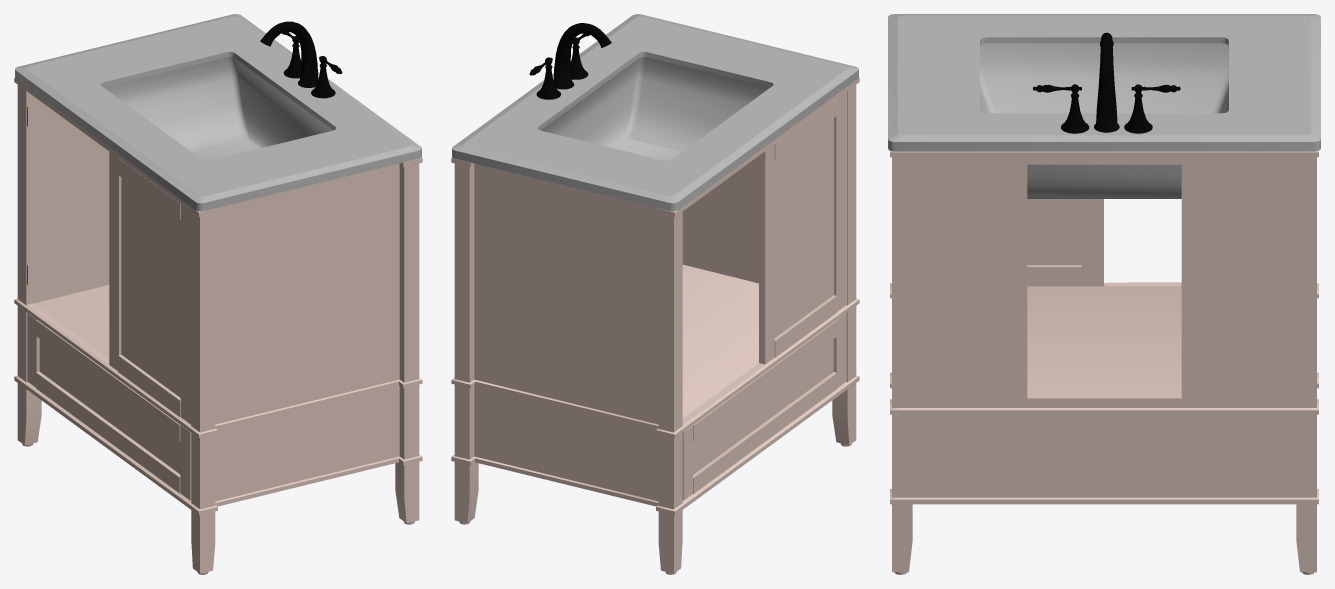
Rendered from shkafsnizu.fbx.
3 renders of one model, left to right at view 1: azimuth 30°, elevation 25°; view 2: azimuth 150°, elevation 25°; view 3: azimuth 270°, elevation 25°, orthographic. The views are drawn at different scales.
Parts seen in each view (by area): view 1: durakblya; view 2: durakblya; view 3: durakblya.
Part boxes in pixels (x1=…): durakblya: x1=14, y1=14, x2=422, y2=574; durakblya: x1=451, y1=14, x2=859, y2=574; durakblya: x1=888, y1=14, x2=1320, y2=574.
Size of the model in its own units: 57.92 by 109 by 82.74.
